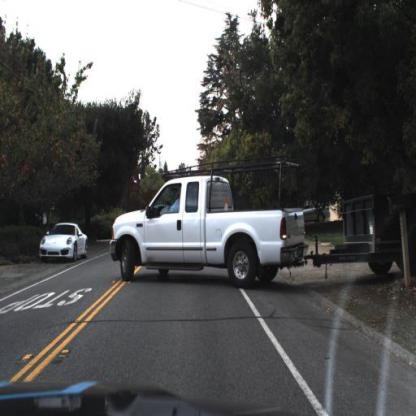car: (38, 219, 88, 263)
truck: (102, 136, 416, 316)
